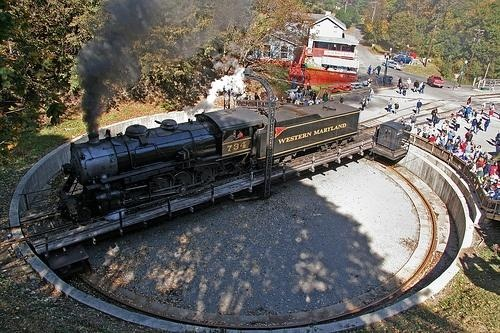train: (61, 102, 366, 207)
